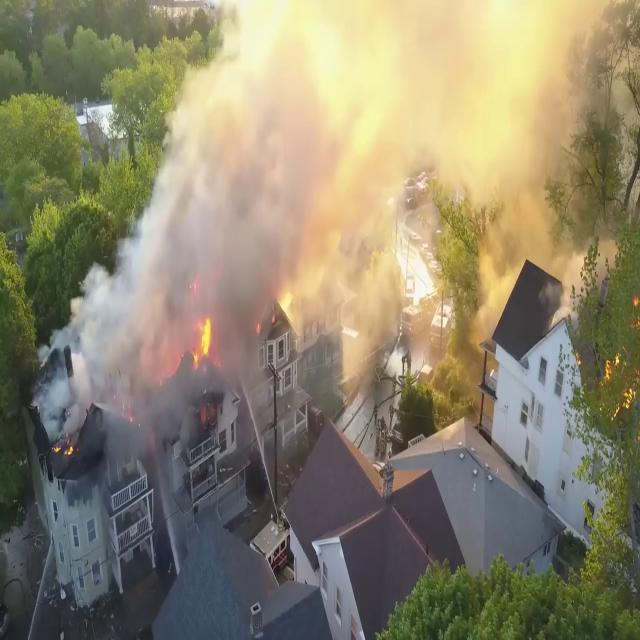Fire: (192, 312, 216, 369)
Smoke: (52, 2, 358, 443), (300, 0, 600, 250)
